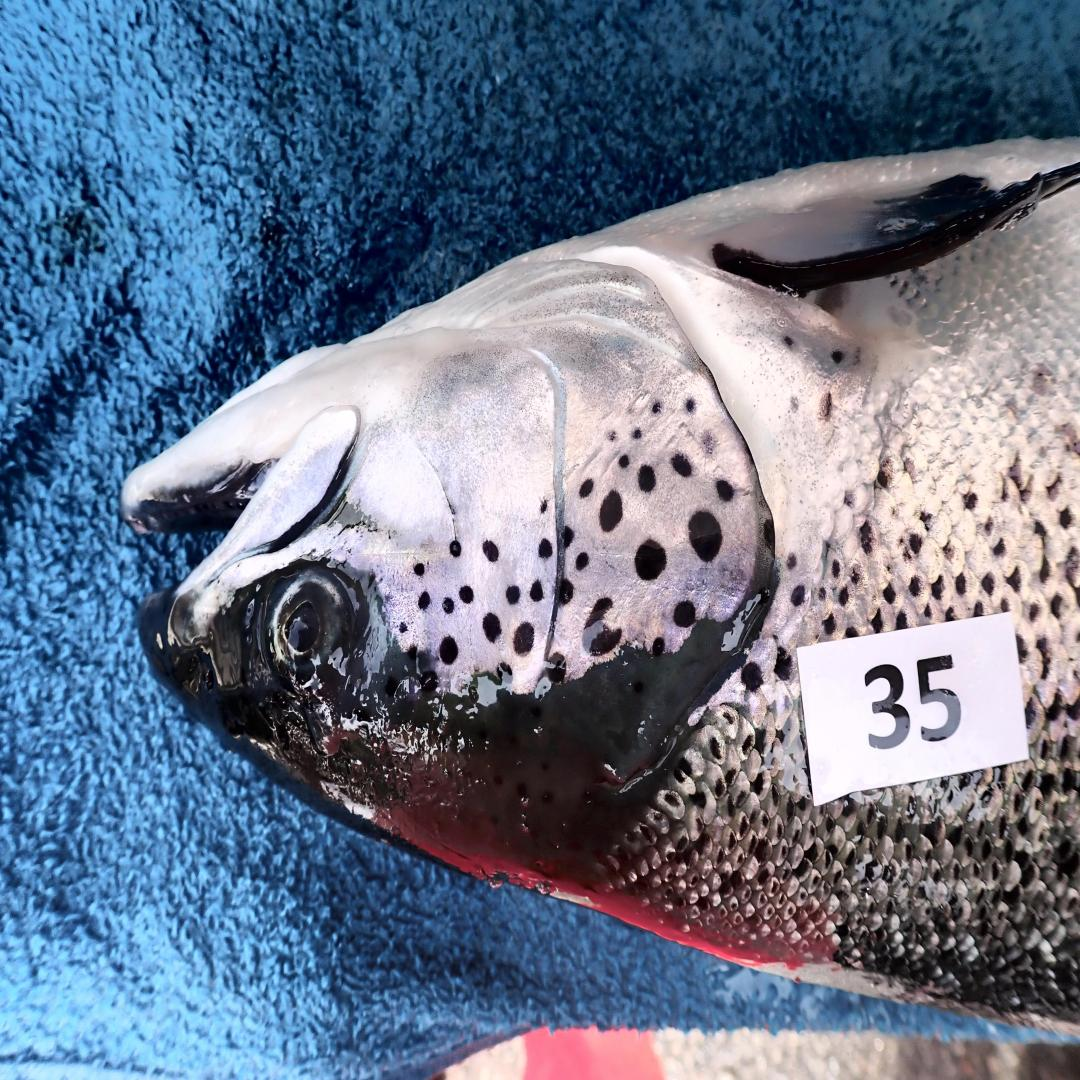spot: (582, 596, 622, 655), (688, 512, 724, 562), (534, 652, 567, 698), (635, 540, 667, 579), (599, 489, 622, 532), (489, 661, 515, 692), (513, 622, 534, 655), (696, 428, 717, 458), (673, 602, 696, 627), (637, 464, 656, 492), (483, 613, 502, 641), (439, 636, 458, 664), (671, 453, 692, 478), (715, 478, 734, 501), (763, 519, 775, 552), (559, 579, 574, 605), (538, 537, 553, 560), (529, 579, 544, 602), (483, 540, 498, 562), (506, 585, 521, 605), (460, 585, 475, 605), (576, 551, 589, 571), (580, 478, 593, 498), (563, 526, 574, 548), (418, 591, 430, 610), (652, 636, 664, 655), (449, 540, 462, 557), (413, 560, 426, 577), (618, 453, 629, 470), (443, 596, 454, 613), (650, 399, 662, 413), (686, 397, 696, 413), (540, 498, 548, 515), (631, 428, 643, 439), (399, 622, 407, 633), (608, 430, 616, 440)
